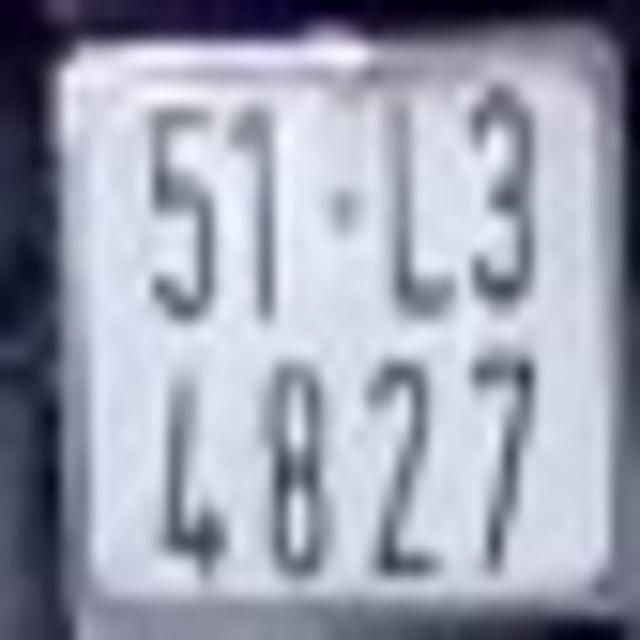1: (238, 120, 285, 309)
2: (366, 364, 454, 574)
3: (476, 95, 535, 298)
4: (156, 360, 226, 580)
5: (150, 104, 213, 317)
7: (473, 354, 538, 562)
8: (267, 363, 331, 575)
L: (388, 134, 463, 306)
